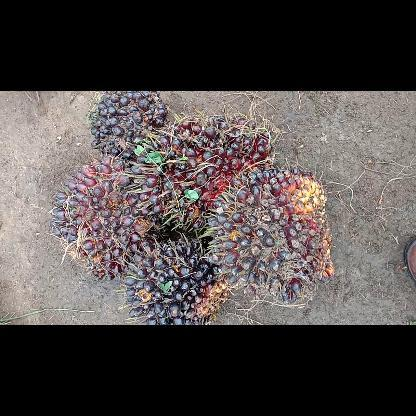TBS mentah: (206, 164, 338, 306), (127, 110, 274, 232), (44, 156, 166, 283), (122, 232, 230, 324), (84, 91, 170, 163)
